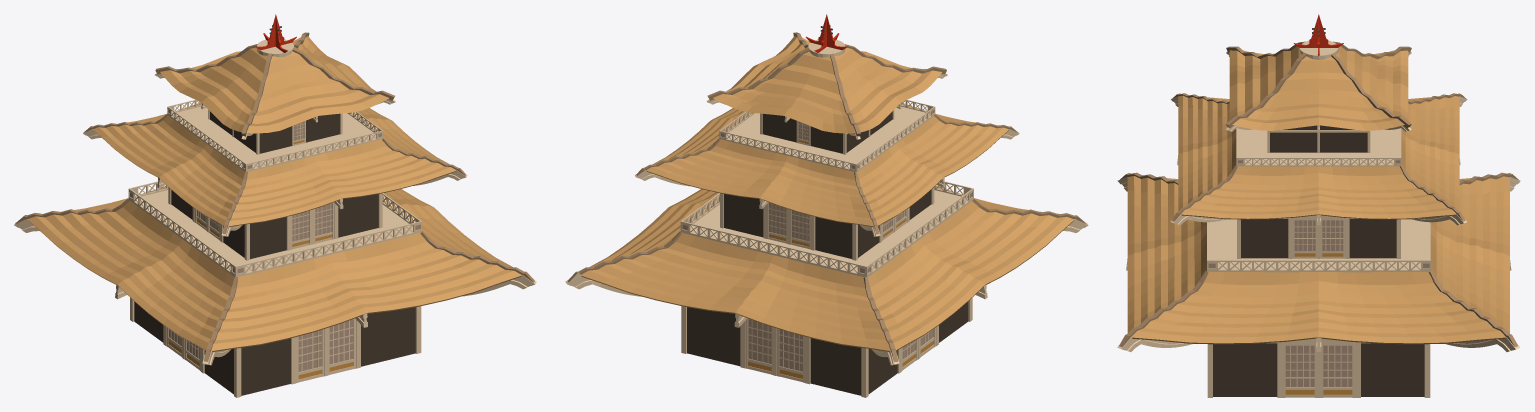
Rendered from JapanTower.fbx.
3 views of the same model, side by side, from view 1: azimuth 30°, elevation 25°; view 2: azimuth 150°, elevation 25°; view 3: azimuth 270°, elevation 25° (orthographic). The views are drawn at different scales.
Visible parts, largest first — view 1: Cube.028; view 2: Cube.028; view 3: Cube.028.
Part boxes in pixels (box(x1,y1,x2,y2)): Cube.028: box(14, 14, 536, 397); Cube.028: box(565, 14, 1088, 397); Cube.028: box(1117, 14, 1520, 397).
Size of the model in its own units: 1023 by 941 by 1022.
